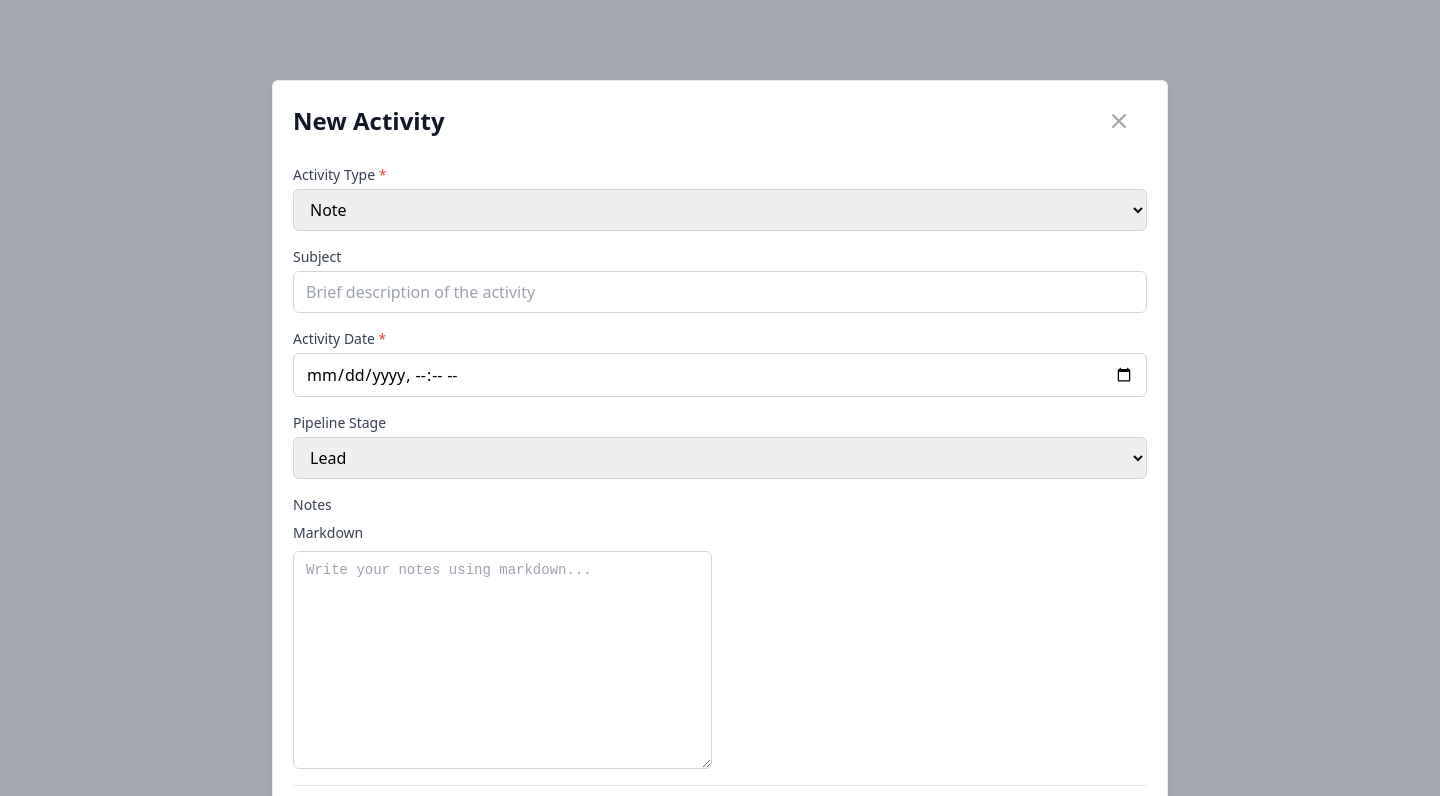
Scenario: ActivityForm › shows validation errors for required fields
// Clear required fields
Select "Select type..." in the dropdown below "Activity Type" at (720, 210), box [293,189,1147,231]
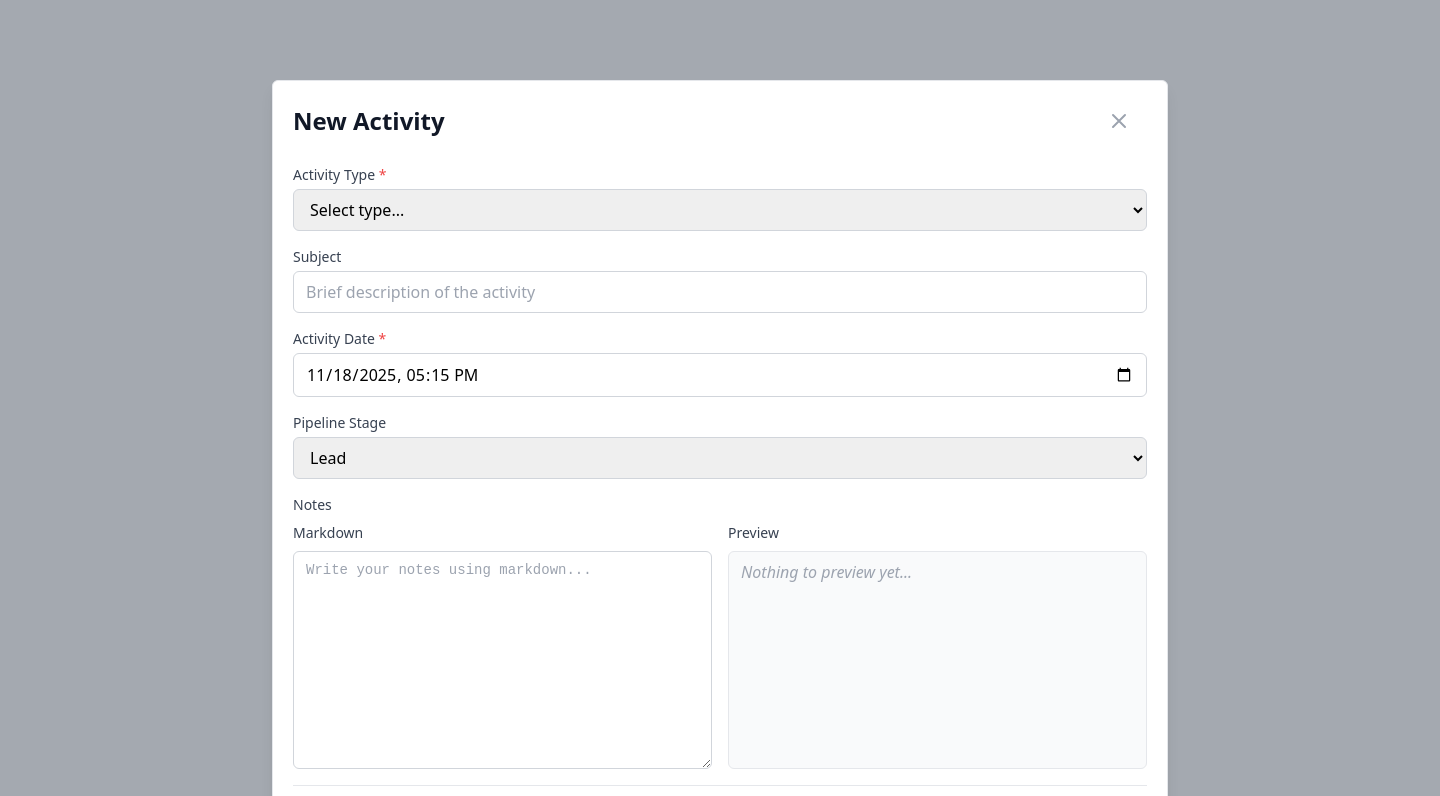
Clear the 2nd field at (720, 375), box [293,353,1147,397]
(page scrolled)
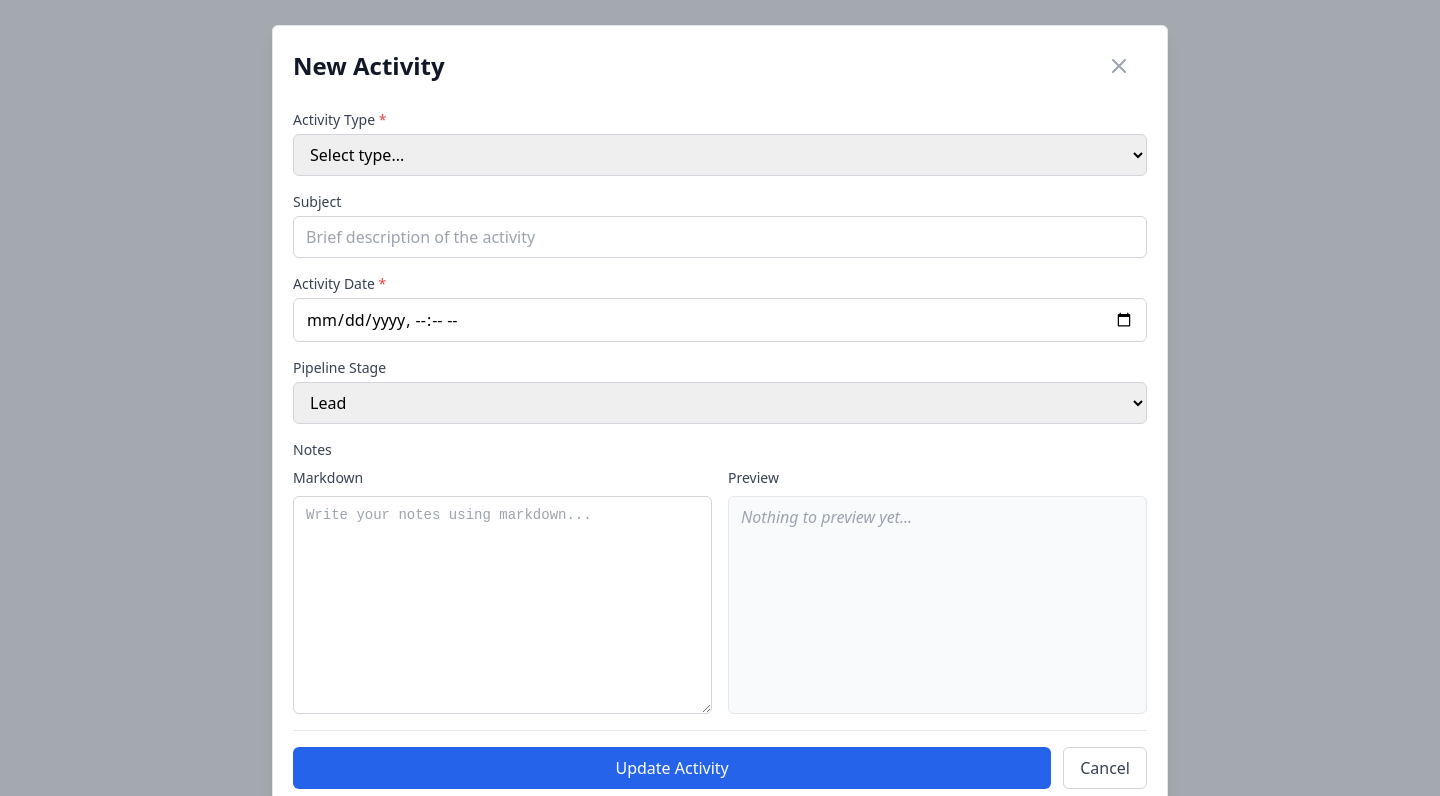
// Submit form without filling required fields
Submit the form, box [293,110,1147,789]
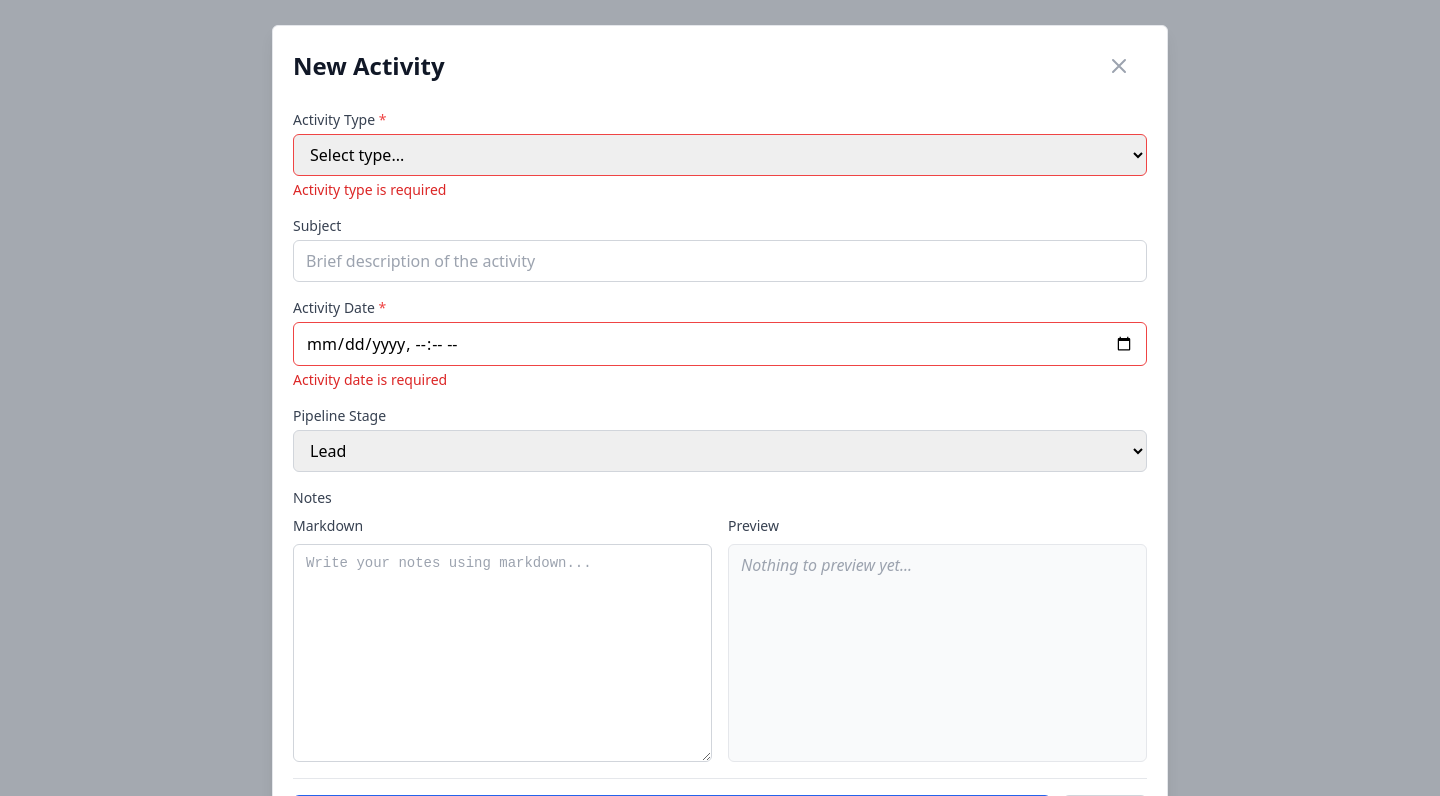
Check: the text "Activity type is required" is shown, box [293,180,446,199]
Check: the text "Activity date is required" is shown, box [293,370,447,389]
